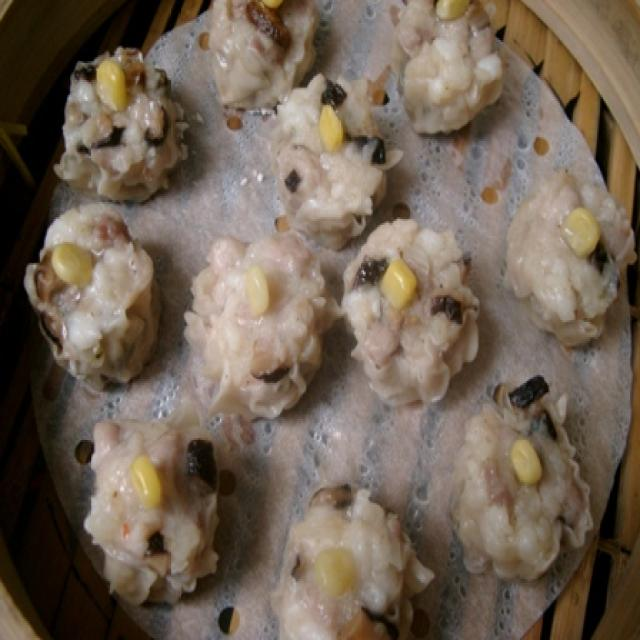带馅早点: (180, 221, 489, 413)
